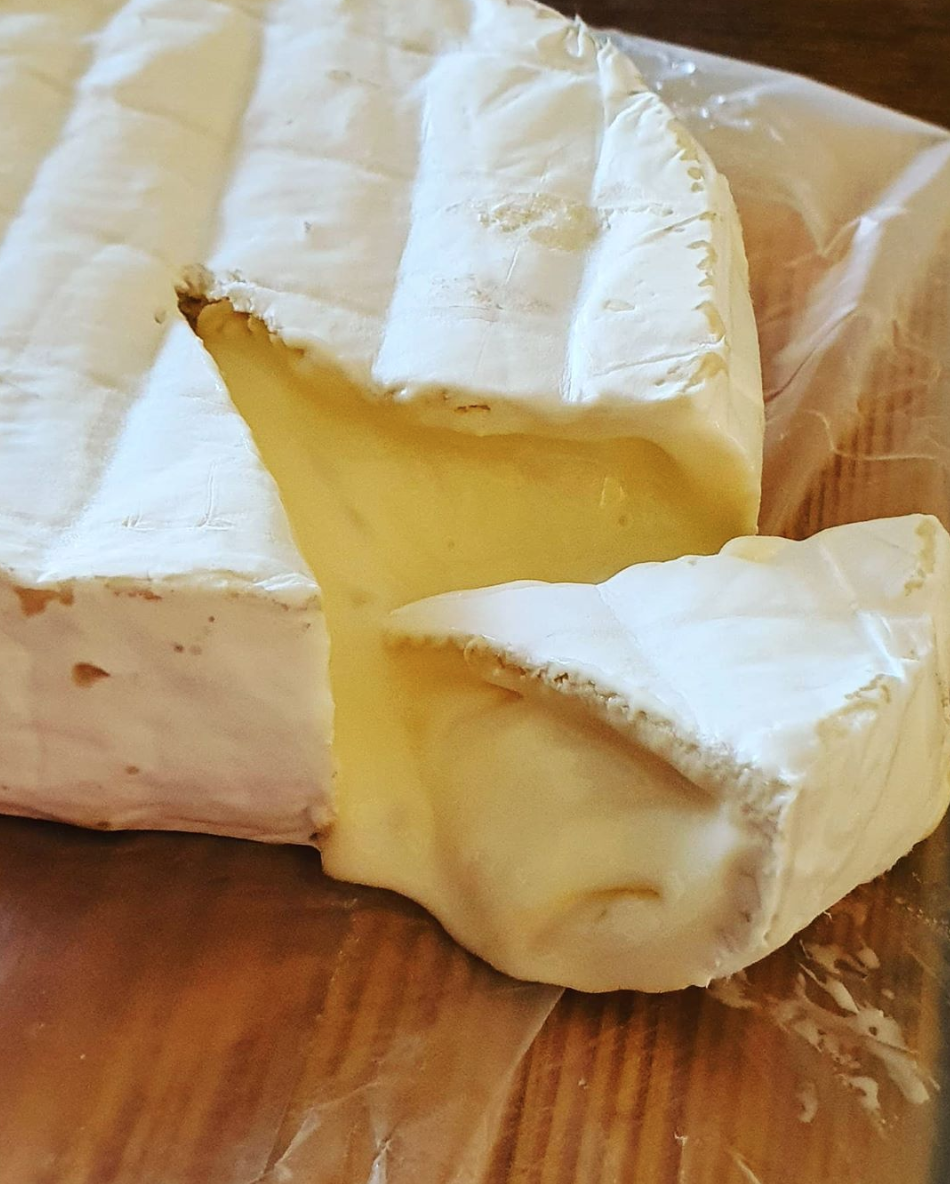camembert: (1, 2, 950, 1003)
